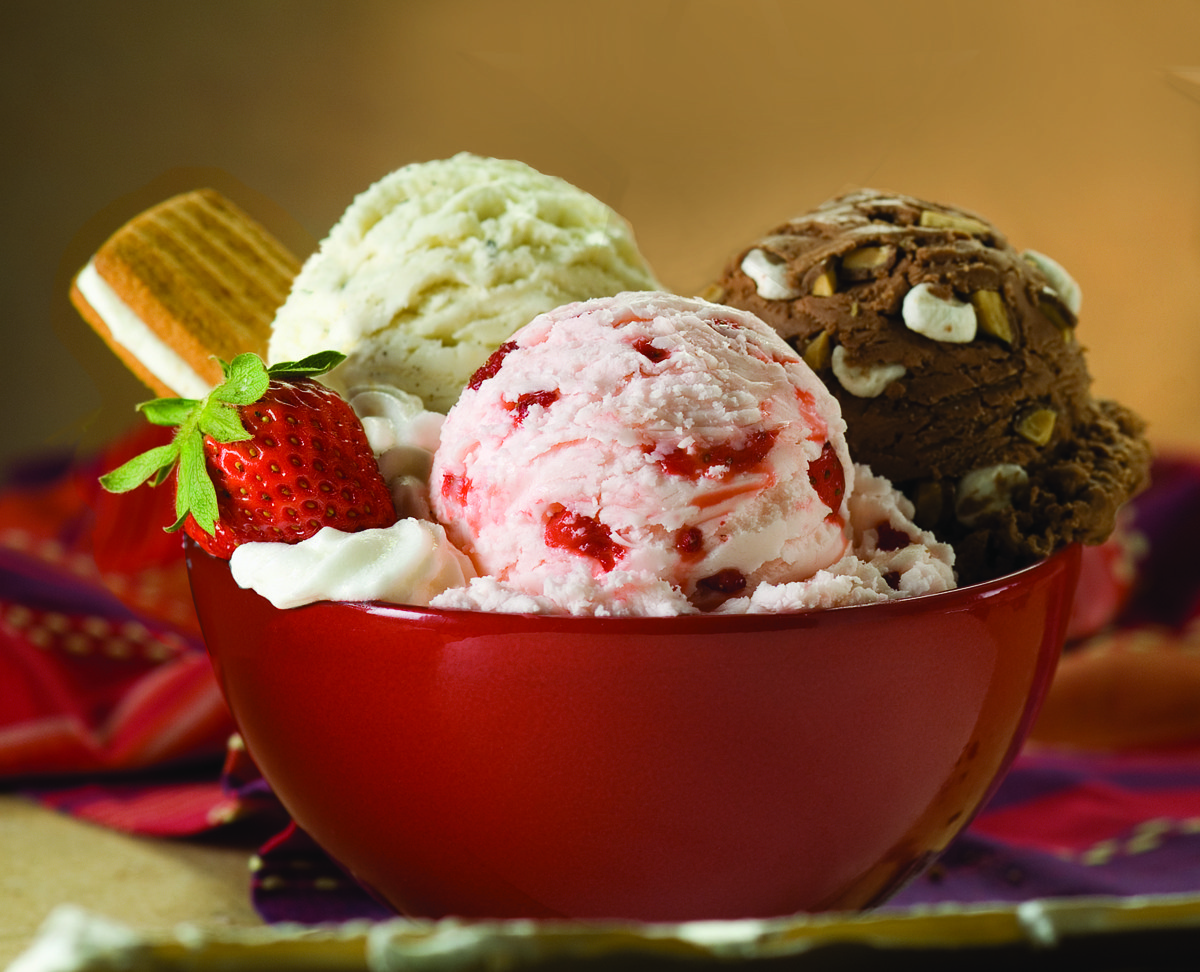ice-cream: (713, 197, 1105, 556), (436, 293, 844, 619), (281, 155, 653, 401)
